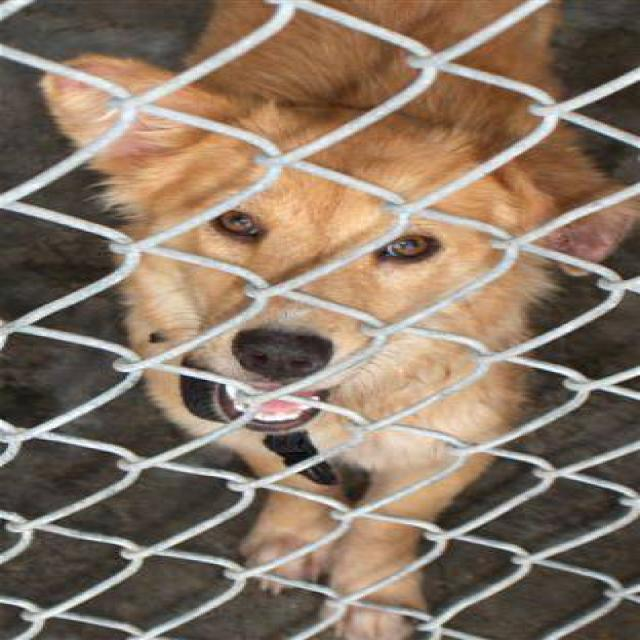dog: (35, 0, 638, 639)
